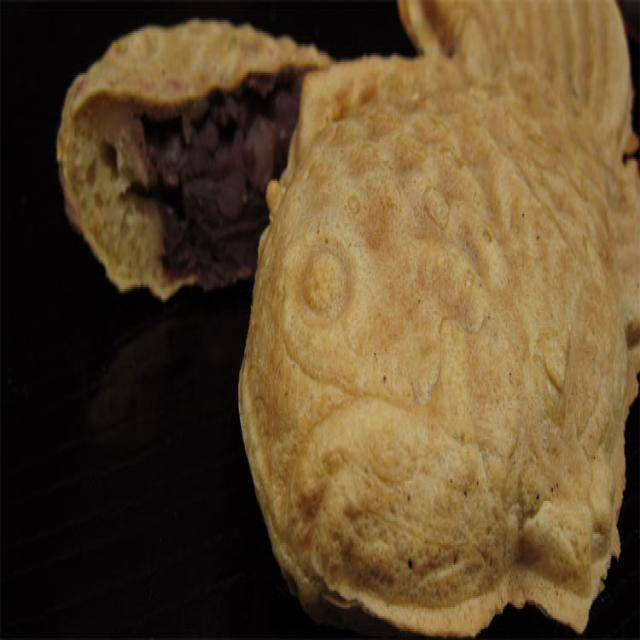熟制海鲜: (234, 0, 640, 638)
